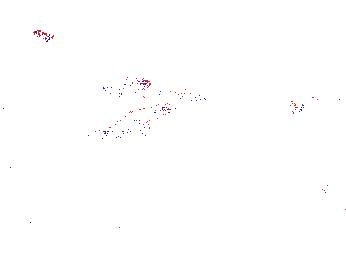X-ray fish: (29, 121, 44, 152)
glassfish: (311, 173, 346, 209)
red belly glassfish: (32, 26, 52, 43)
redtail glassfish: (94, 103, 175, 136), (286, 91, 346, 119), (145, 87, 210, 106), (94, 74, 152, 93)
